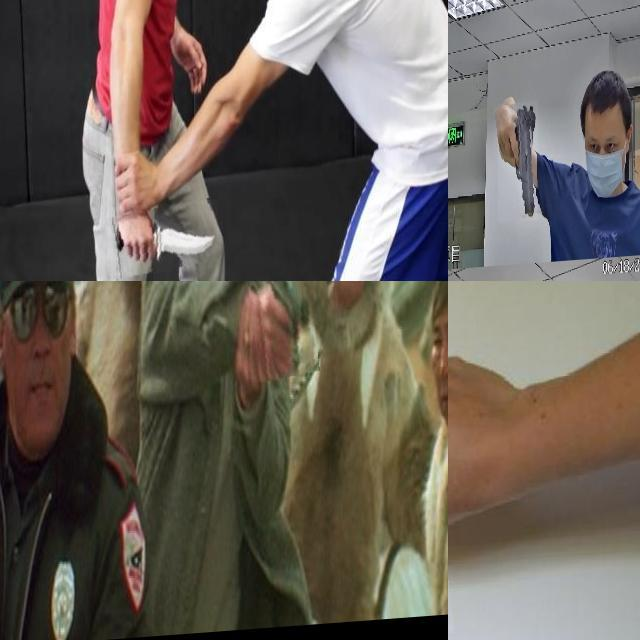-: (448, 351, 640, 640), (108, 204, 218, 279)
gun-knife-thesis - v11 Yolov5 augmented: (246, 281, 315, 387), (498, 103, 538, 224)
